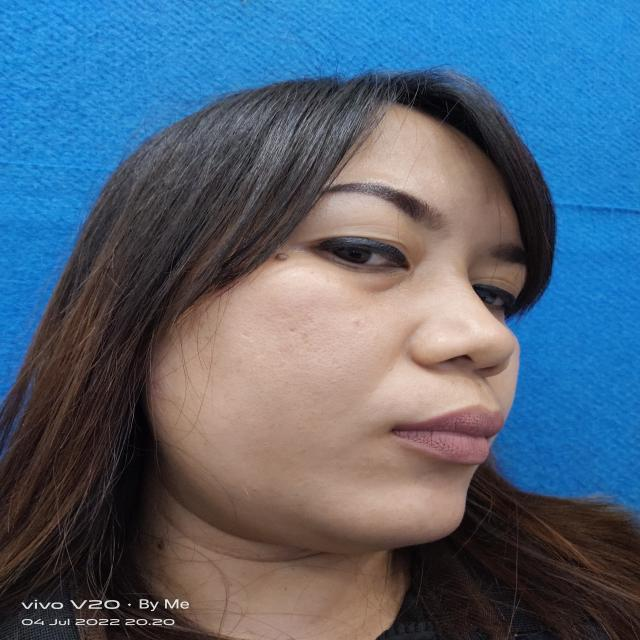pores: (246, 301, 374, 384)
